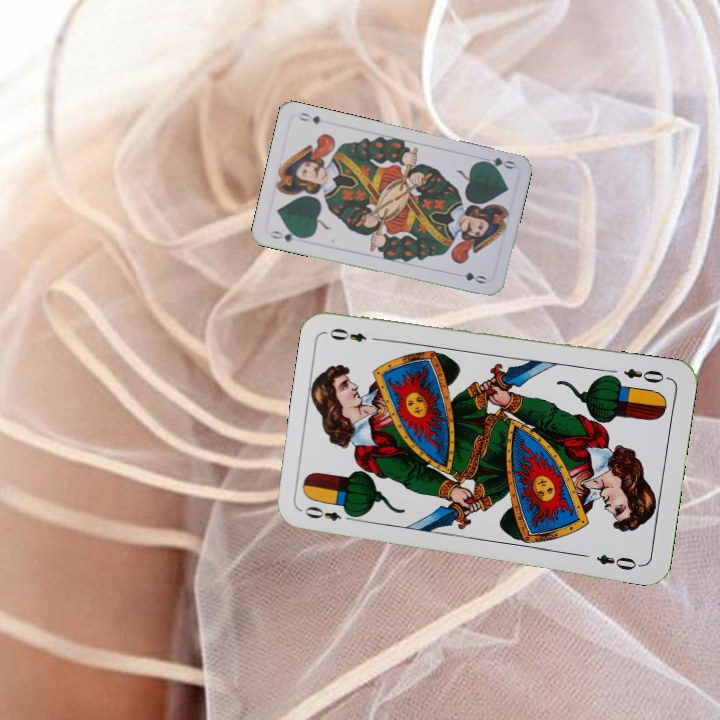EO: (301, 502, 358, 524), (619, 364, 672, 386)
GO: (476, 153, 517, 172), (266, 227, 306, 245)
